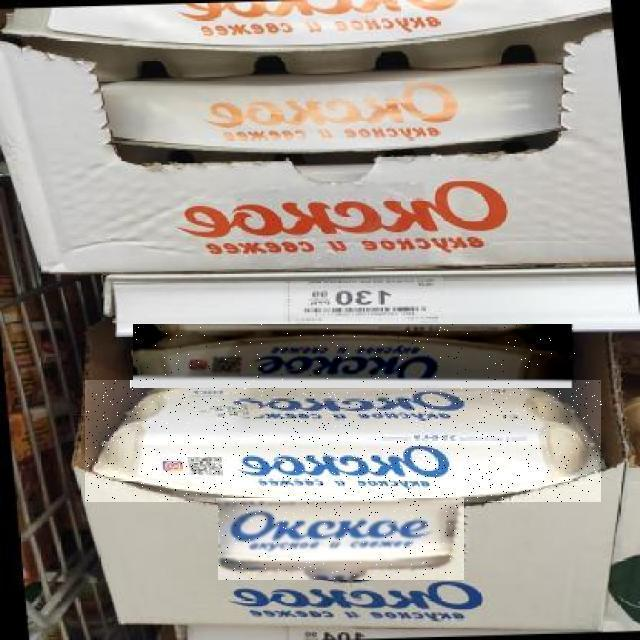Eggs: (86, 380, 604, 502), (134, 324, 576, 388), (219, 498, 465, 580)
